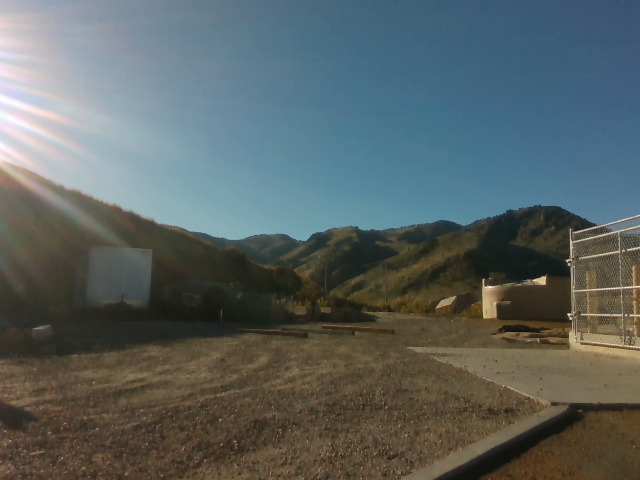Dunnage: (224, 321, 404, 341)
